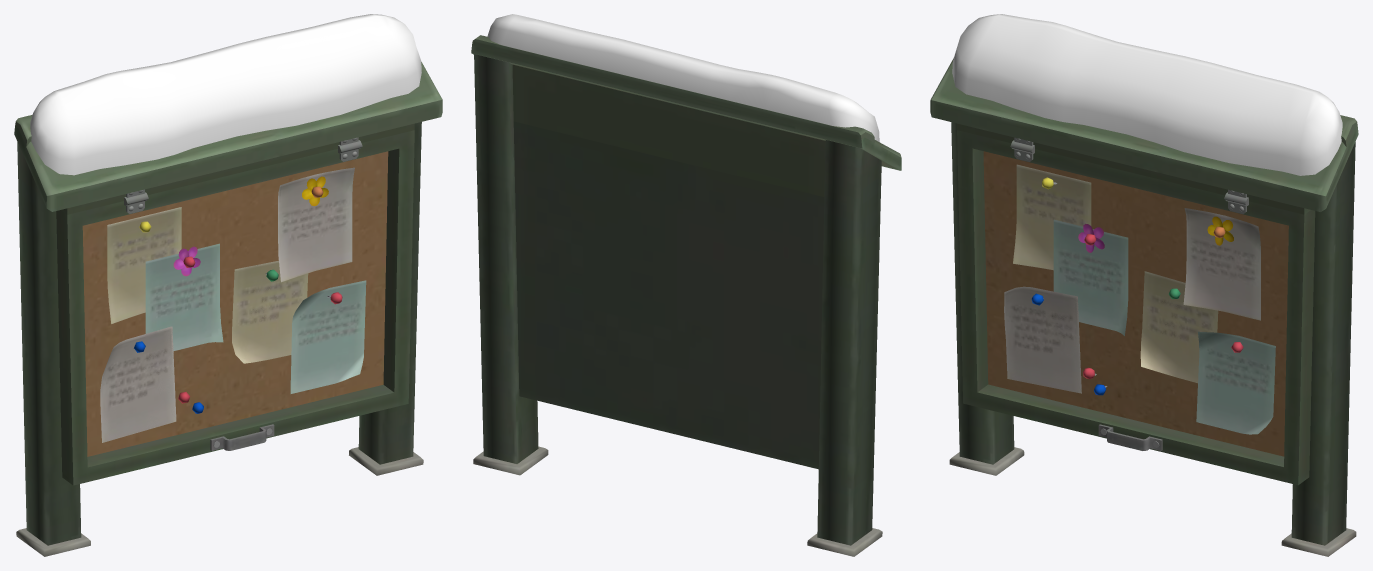
The model's file is bulletin-board.glb.
3 renders of one model, left to right at view 1: azimuth 30°, elevation 25°; view 2: azimuth 150°, elevation 25°; view 3: azimuth 330°, elevation 25°, orthographic.
Visible parts, largest first — view 1: EvtobjBbs_node1, EvtobjBbs_node2; view 2: EvtobjBbs_node1, EvtobjBbs_node2; view 3: EvtobjBbs_node1, EvtobjBbs_node2.
Boxes of the visible parts, left/top/right/bottom form: EvtobjBbs_node1: left=14, top=62, right=442, bottom=556; EvtobjBbs_node2: left=30, top=14, right=421, bottom=175; EvtobjBbs_node1: left=471, top=35, right=901, bottom=556; EvtobjBbs_node2: left=487, top=14, right=879, bottom=141; EvtobjBbs_node1: left=930, top=58, right=1358, bottom=556; EvtobjBbs_node2: left=952, top=14, right=1342, bottom=175.
Size of the model in its own units: 1.7 by 1.83 by 0.3088.
2 materials, 1 textured.
